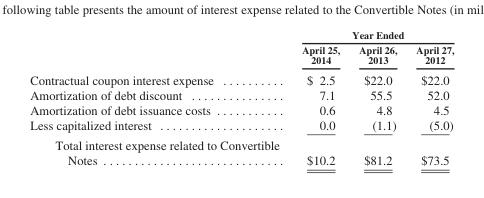table: (29, 28, 453, 167)
table column: (29, 28, 290, 167), (290, 28, 348, 167), (348, 28, 405, 167), (405, 28, 453, 167)
table column header: (29, 28, 453, 68)
table row: (29, 134, 453, 167), (29, 42, 453, 68), (29, 68, 453, 86), (29, 117, 453, 134), (29, 86, 453, 102), (29, 102, 453, 117), (29, 28, 453, 42)
table spanning cell: (290, 28, 453, 42)
